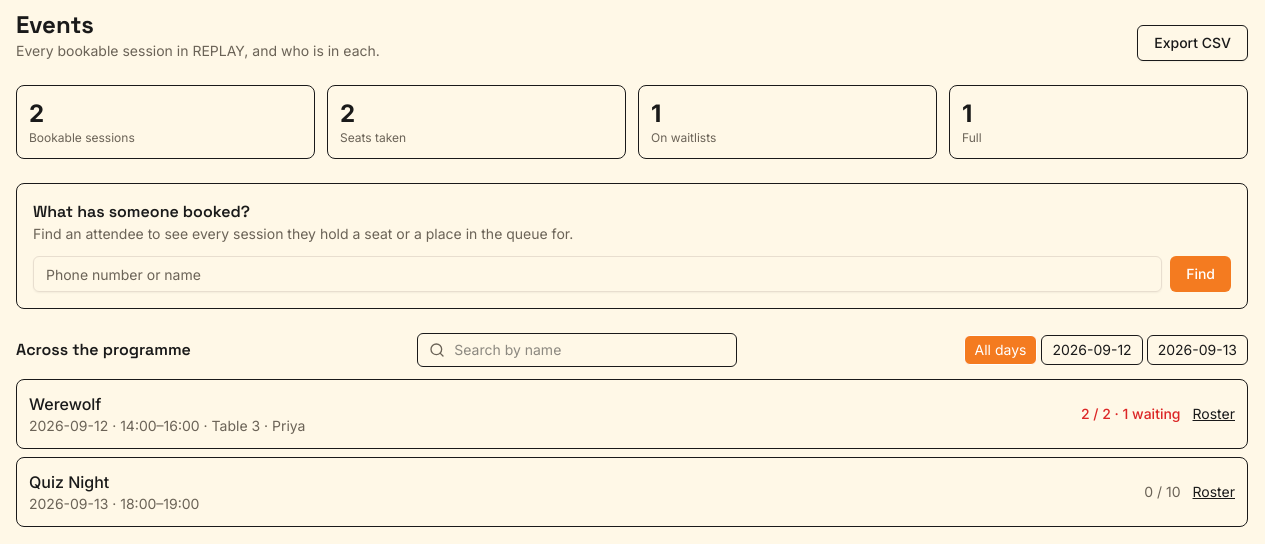
Test: finding a session by name › narrows the board to what was typed, whatever the case
Expected: the text "Werewolf" is shown, [29,394,101,414]
Step 1. Type "quiz" into the search field named "Search sessions" → (577, 350), box [417,333,737,367]
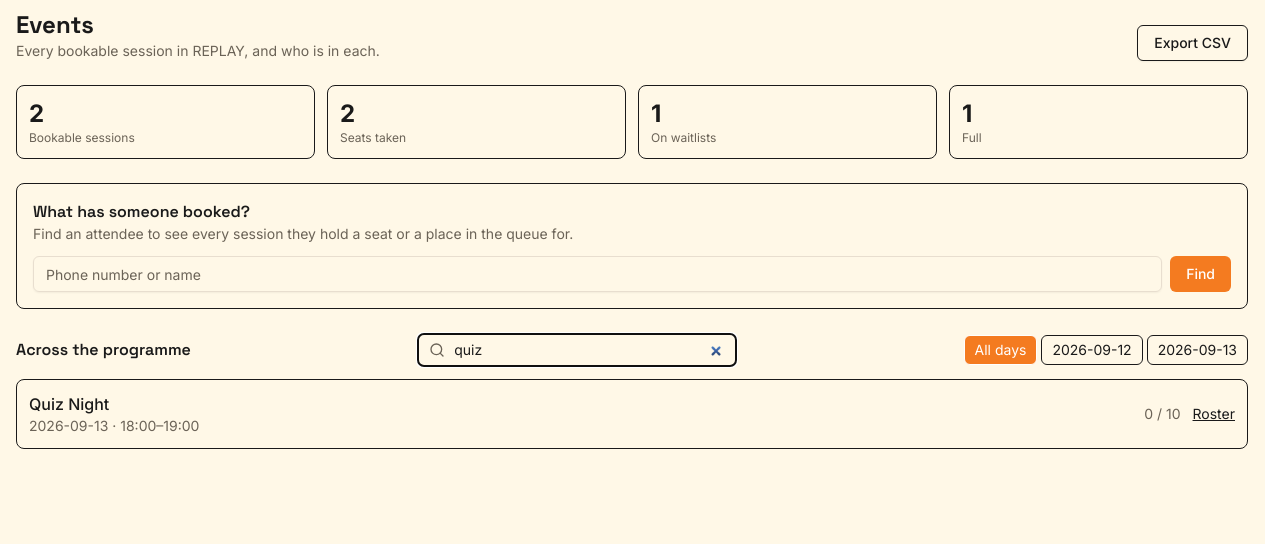
Expected: the text "Quiz Night" is shown, [29,394,109,414]
Now the button "Werewolf" is gone
